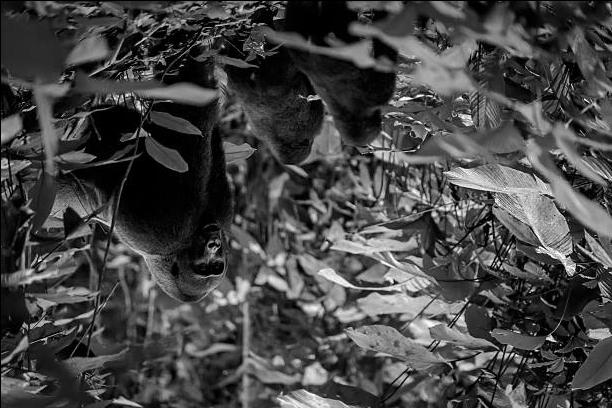gorille_Autres: (0, 47, 252, 323)
